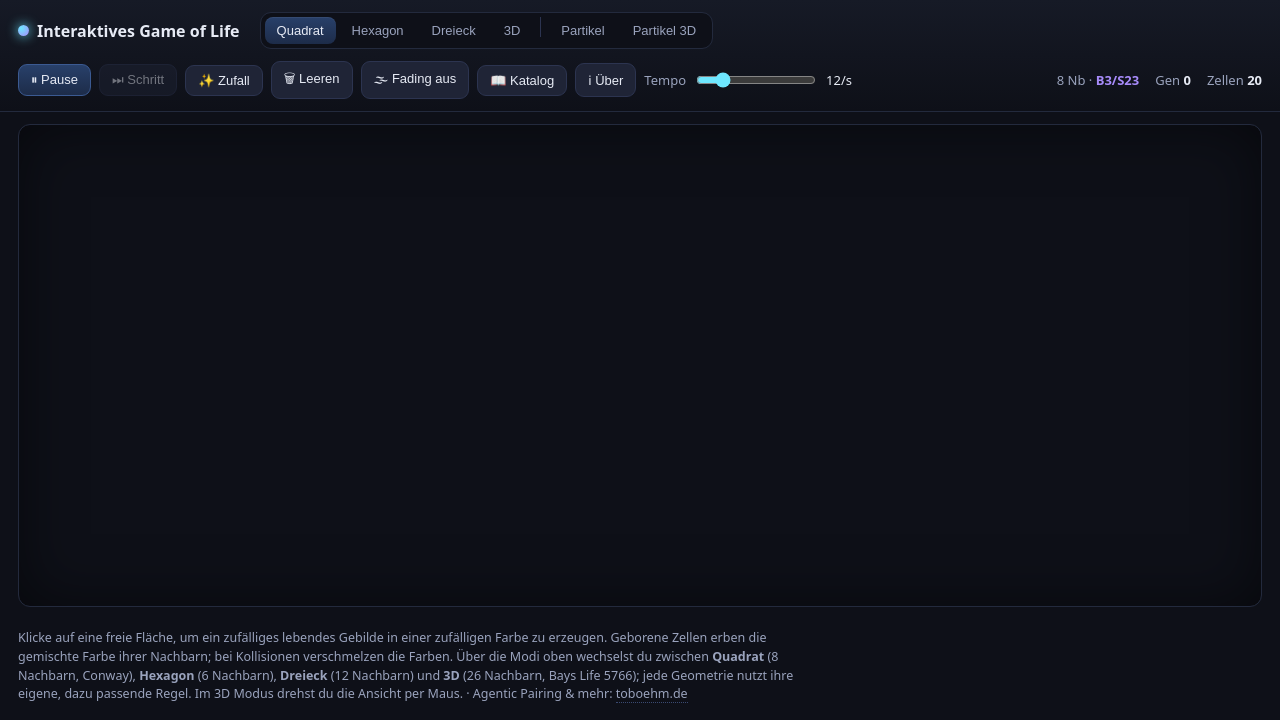
Test: App UI › opens and closes the About modal
Click the button "ℹ Über": [606, 80] box [575,63,636,97]
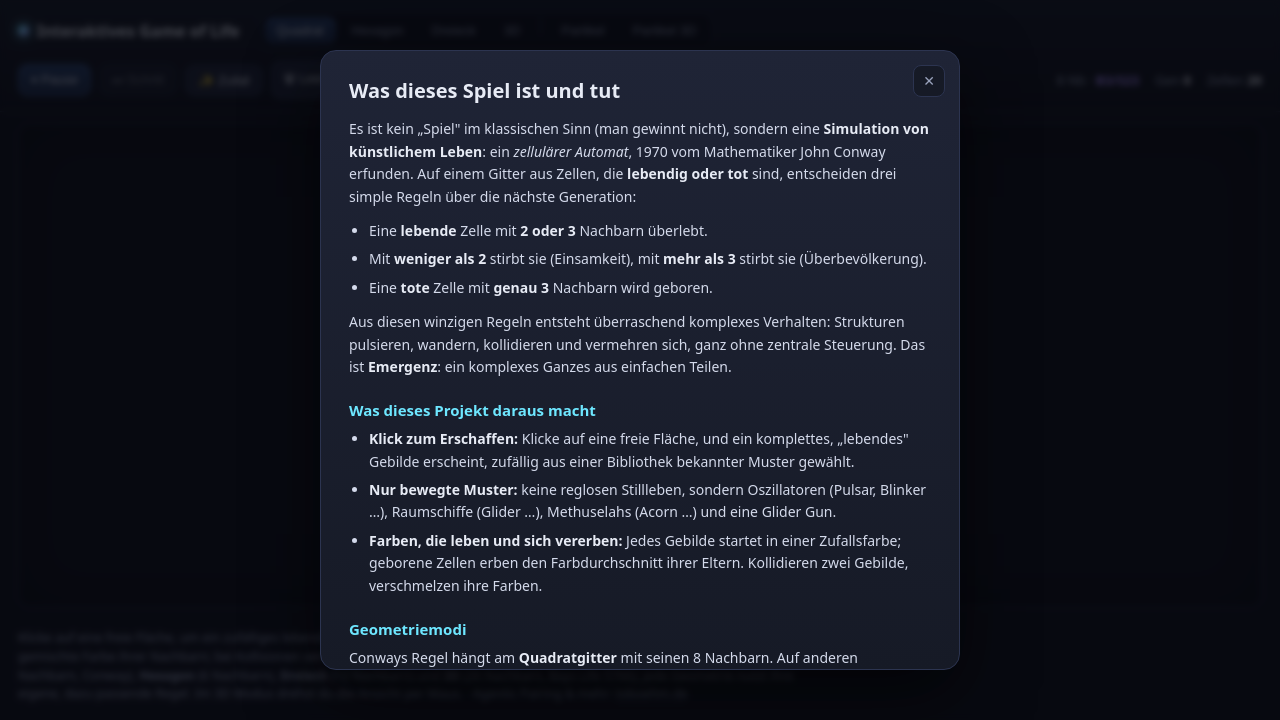
Check: the dialog is shown, box [320,50,960,670]
Click the button named "Schließen": [929, 81] box [913,65,945,97]
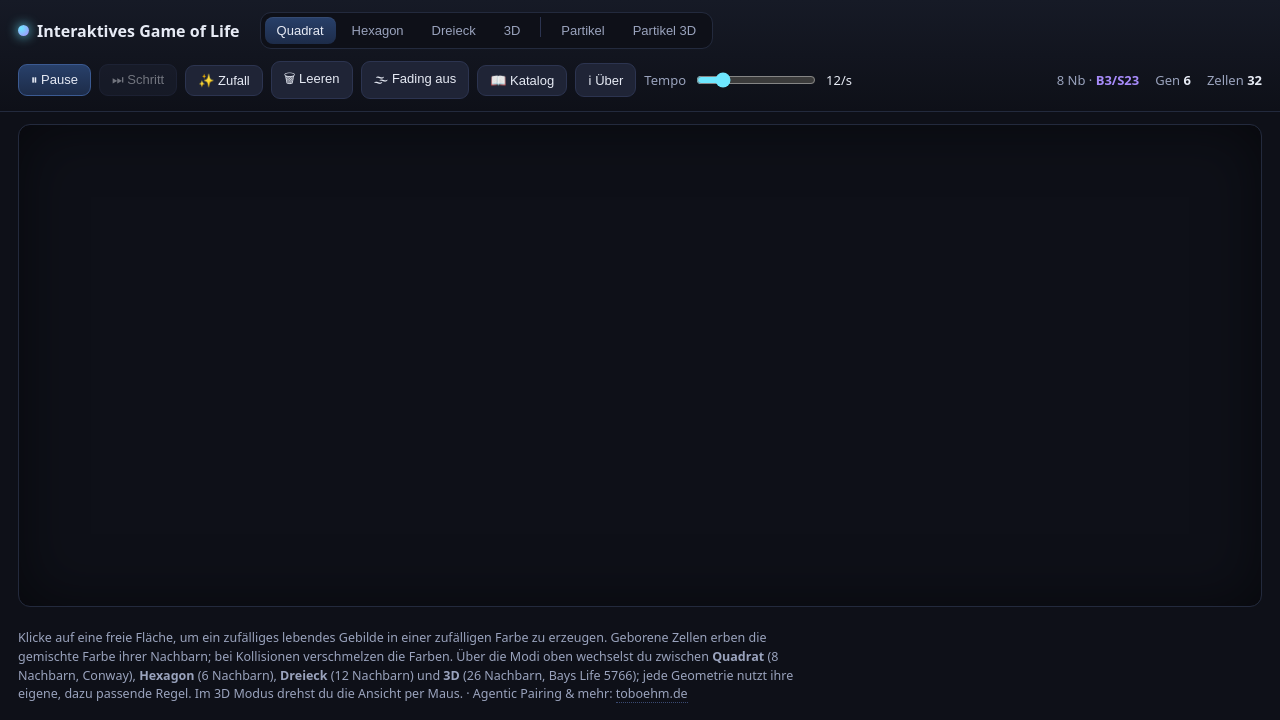
Check: the dialog is gone
